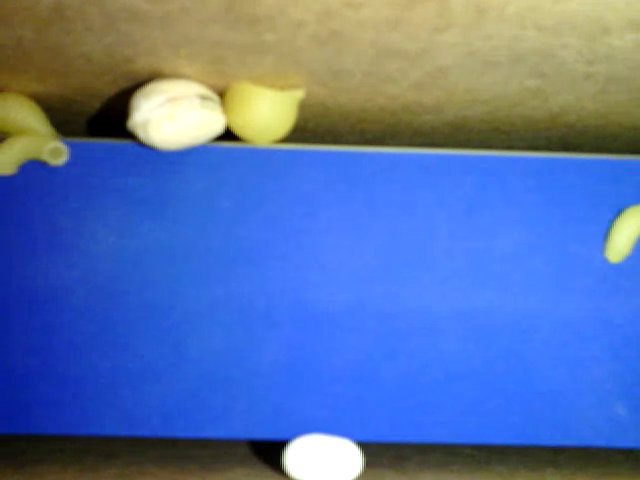elbow: (1, 134, 72, 178), (600, 204, 639, 269)
shell: (224, 79, 308, 144), (1, 91, 65, 138)
